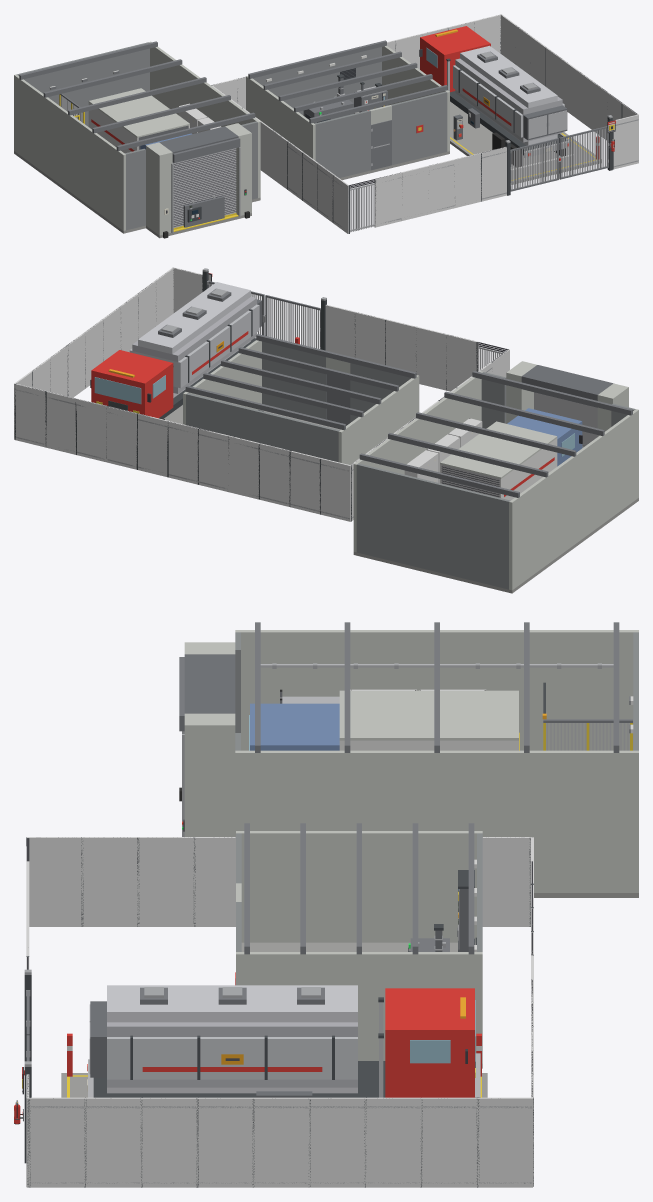
Rendered from Exterior.glb.
The picture shows the model from 3 angles, top to bottom: view 1: azimuth 30°, elevation 25°; view 2: azimuth 150°, elevation 25°; view 3: azimuth 270°, elevation 25°; orthographic projection. The views are drawn at different scales.
Parts seen in each view (by area): view 1: Dock, GeneratorBuilding, TankerTruck, RollUpDoor_Closed, YardGate, Truck, FuelDeliveryPad, YardFence-convcolonly.002, YardFence-convcolonly.003, YardFence-convcolonly.001, YardFence-convcolonly.004, YardFence (+24 smaller); view 2: Dock, GeneratorBuilding, TankerTruck, Truck, RollUpDoor_Closed, YardGate, YardFence-convcolonly.026, YardFence-convcolonly.023, YardFence-convcolonly.016, YardFence-convcolonly.019, YardFence-convcolonly.017, YardFence-convcolonly.025 (+22 smaller); view 3: Dock, TankerTruck, GeneratorBuilding, Truck, RollUpDoor_Closed, YardFence-convcolonly.007, YardFence-convcolonly.011, YardFence-convcolonly.009, YardFence-convcolonly.010, YardFence-convcolonly.008, YardFence-convcolonly.015, YardFence-convcolonly.033 (+11 smaller).
Boxes of the visible parts, x1,y1,x2,y2 form: Dock: (14, 41, 260, 233); GeneratorBuilding: (246, 40, 449, 180); TankerTruck: (419, 26, 570, 167); RollUpDoor_Closed: (146, 123, 251, 238); YardGate: (505, 115, 612, 195); Truck: (88, 88, 191, 153); FuelDeliveryPad: (450, 101, 601, 184); YardFence-convcolonly.002: (401, 166, 428, 220); YardFence-convcolonly.003: (428, 159, 454, 214); YardFence-convcolonly.001: (374, 172, 401, 227); YardFence-convcolonly.004: (454, 153, 480, 208); YardFence: (348, 179, 375, 233); Dock: (353, 371, 638, 593); GeneratorBuilding: (183, 334, 419, 464); TankerTruck: (90, 282, 261, 419); Truck: (440, 408, 582, 500); RollUpDoor_Closed: (506, 361, 628, 446); YardGate: (202, 268, 326, 350); YardFence-convcolonly.026: (319, 458, 350, 521); YardFence-convcolonly.023: (228, 435, 259, 499); YardFence-convcolonly.016: (14, 384, 45, 447); YardFence-convcolonly.019: (106, 406, 136, 469); YardFence-convcolonly.017: (45, 391, 75, 454); YardFence-convcolonly.025: (289, 451, 319, 514); Dock: (235, 622, 638, 897); TankerTruck: (87, 985, 480, 1097); GeneratorBuilding: (235, 823, 482, 1068); Truck: (249, 690, 519, 750); RollUpDoor_Closed: (179, 642, 235, 836); YardFence-convcolonly.007: (27, 1097, 84, 1187); YardFence-convcolonly.011: (252, 1097, 308, 1187); YardFence-convcolonly.009: (140, 1097, 196, 1187); YardFence-convcolonly.010: (196, 1097, 252, 1187); YardFence-convcolonly.008: (84, 1097, 140, 1187); YardFence-convcolonly.015: (476, 1097, 532, 1187); YardFence-convcolonly.033: (139, 837, 195, 926).
Size of what is drawn, in the model's own units: 21.78 by 3.75 by 13.93.
53 materials, 53 textured.
